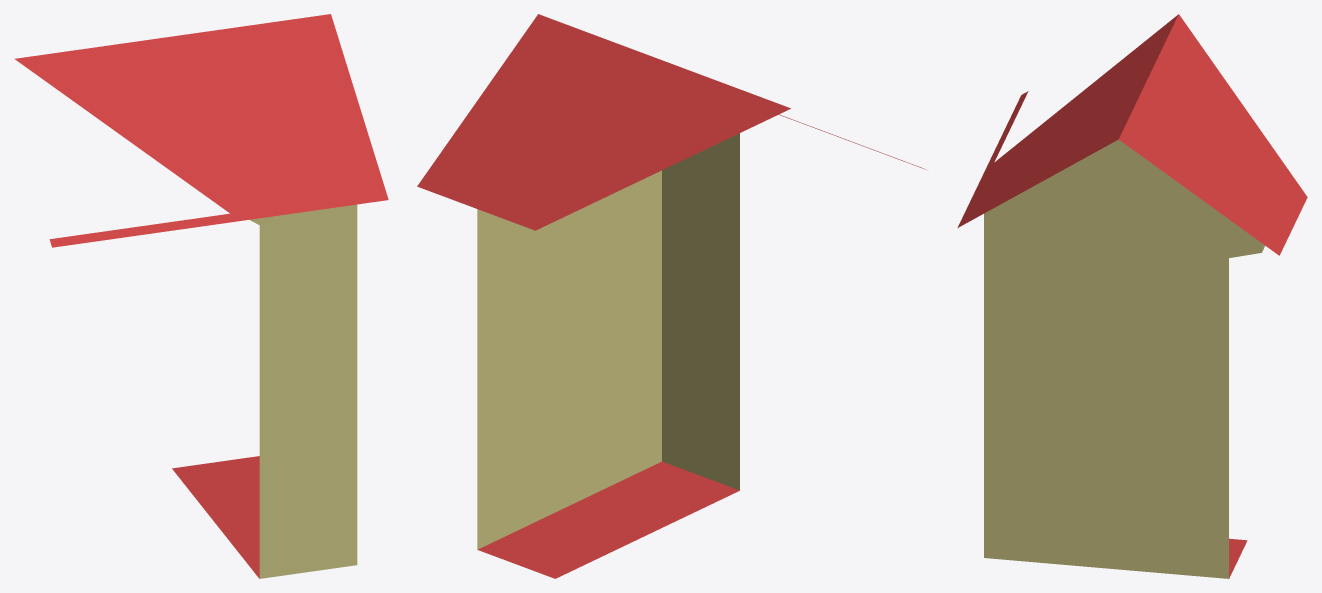
3 views of the same model, side by side, from view 1: azimuth 30°, elevation 25°; view 2: azimuth 150°, elevation 25°; view 3: azimuth 270°, elevation 25° (orthographic). The views are drawn at different scales.
Size of the model in its own units: 12.64 by 11.63 by 16.1.
